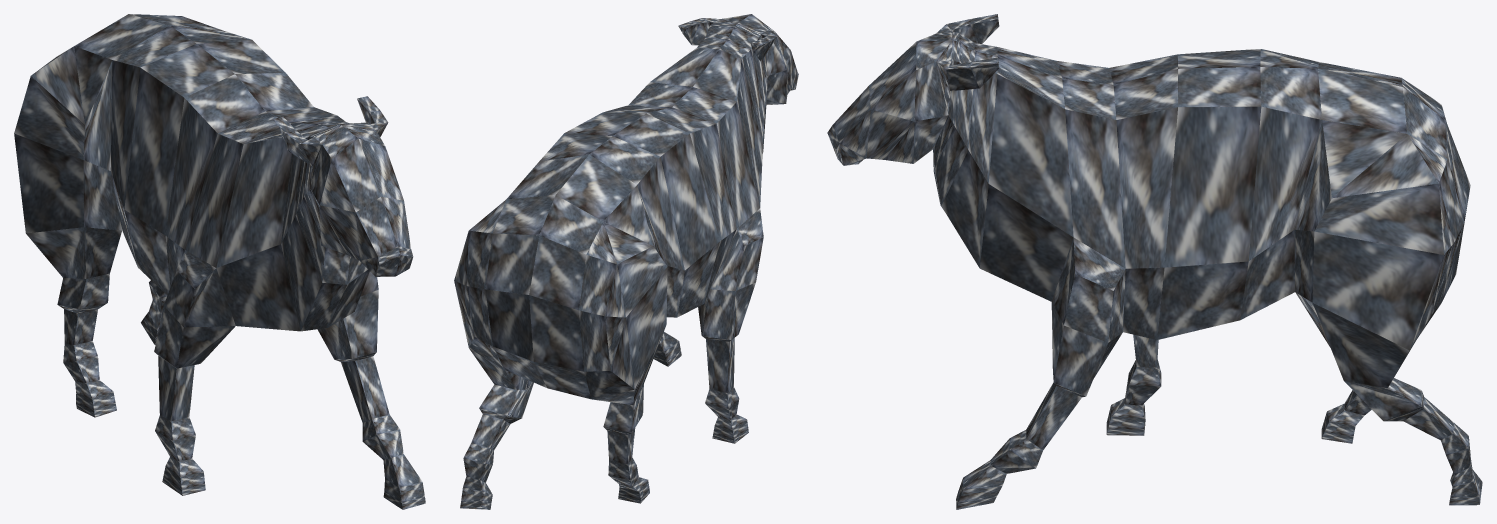
File: SheepIdle_000060.obj
3 renders of one model, left to right at view 1: azimuth 30°, elevation 25°; view 2: azimuth 150°, elevation 25°; view 3: azimuth 270°, elevation 25°, orthographic. The views are drawn at different scales.
Visible parts, largest first — view 1: Sheep_Cylinder; view 2: Sheep_Cylinder; view 3: Sheep_Cylinder.
Part boxes in pixels (x1,y1,x2,y2): Sheep_Cylinder: [14, 14, 425, 509]; Sheep_Cylinder: [454, 14, 798, 509]; Sheep_Cylinder: [827, 14, 1482, 509].
Bounding box in the file's own units: 2.22 × 4.39 × 6.03.
